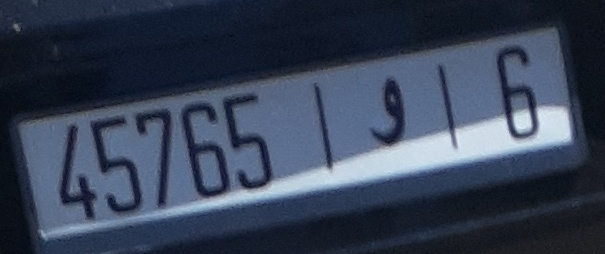4: (46, 122, 103, 221)
5: (91, 109, 152, 222), (224, 90, 269, 190)
6: (490, 42, 546, 144), (179, 94, 231, 203)
7: (134, 103, 183, 210)
waw: (369, 69, 408, 150)
